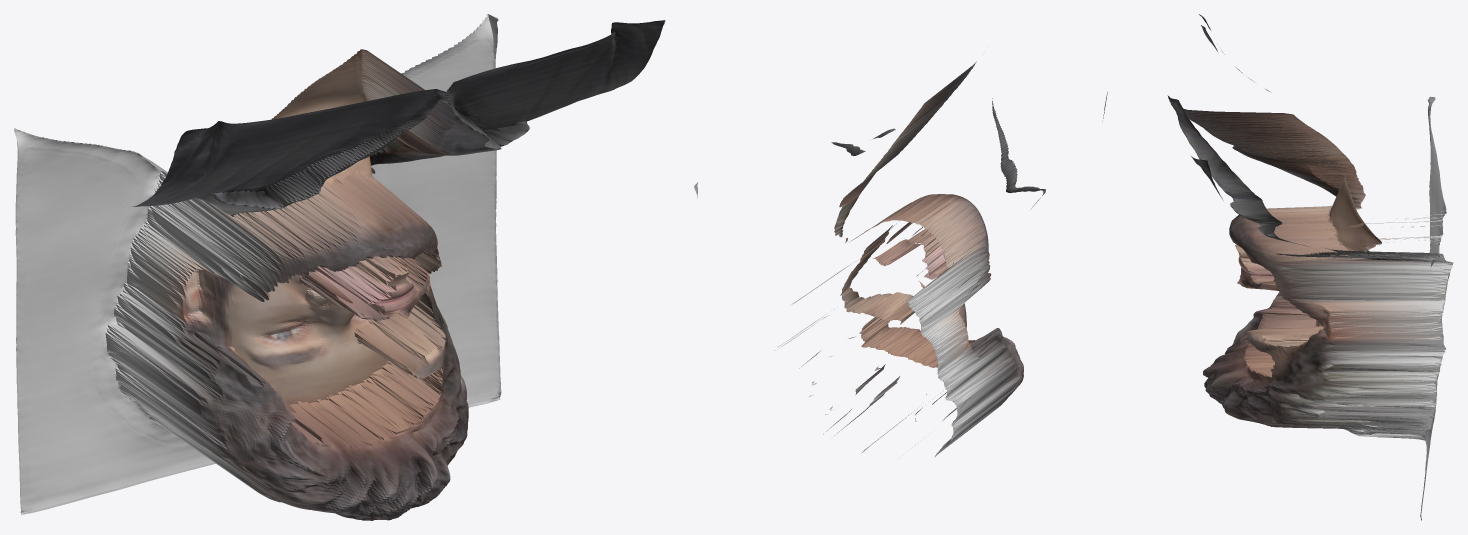
3 views of the same model, side by side, from view 1: azimuth 30°, elevation 25°; view 2: azimuth 150°, elevation 25°; view 3: azimuth 270°, elevation 25° (orthographic). The views are drawn at different scales.
Visible parts, largest first — view 1: geometry_0; view 2: geometry_0; view 3: geometry_0.
Boxes of the visible parts, box(x1,y1,x2,y2) form: geometry_0: box(14, 14, 665, 520); geometry_0: box(694, 61, 1107, 457); geometry_0: box(1167, 14, 1453, 520).
Size of the model in its own units: 2 by 2 by 1.5.
